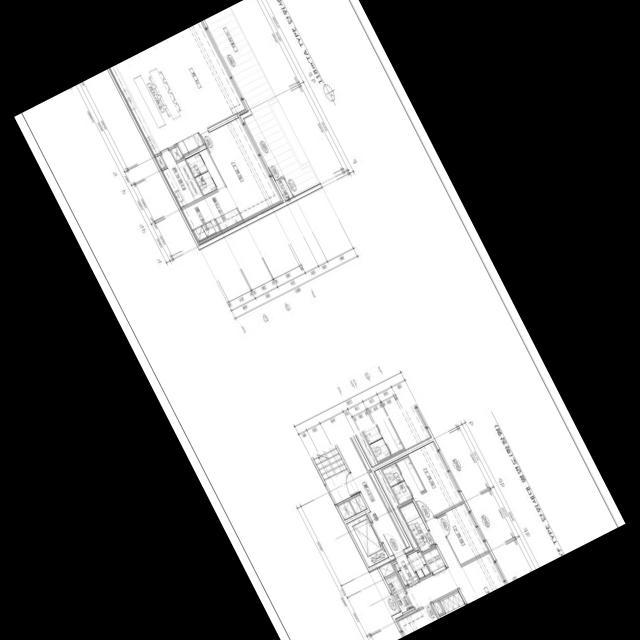background: (14, 0, 626, 640)
space_bedroom: (201, 117, 282, 219), (408, 441, 464, 519), (437, 502, 489, 564), (395, 604, 439, 635)
space_dressroom: (182, 197, 221, 242)
space_elevator: (347, 513, 389, 567)
space_elevator_hall: (337, 437, 406, 555)
space_front: (391, 554, 418, 587)
space_kitchen: (110, 46, 204, 155), (439, 590, 466, 618)
space_living_room: (154, 21, 247, 134), (405, 517, 505, 609)
space_other: (374, 468, 418, 549), (199, 148, 242, 230), (369, 471, 410, 547), (162, 150, 203, 207), (407, 549, 431, 579), (351, 435, 370, 470), (423, 547, 445, 572), (349, 494, 367, 513), (338, 500, 355, 519), (379, 561, 395, 577), (170, 146, 183, 160), (155, 154, 166, 168), (433, 601, 443, 614)
space_outdoor_room: (385, 574, 413, 612), (276, 178, 293, 200)
space_staircase: (312, 444, 359, 503)
space_toilet: (382, 456, 425, 503), (399, 501, 435, 552), (185, 152, 217, 195)
